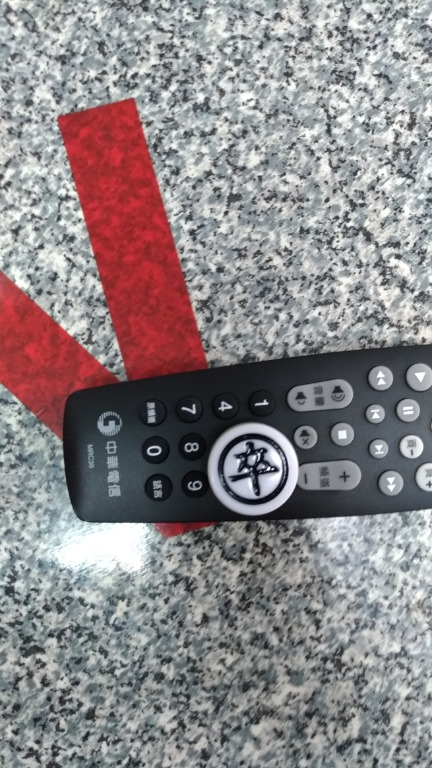b-pawn: (179, 412, 331, 543)
